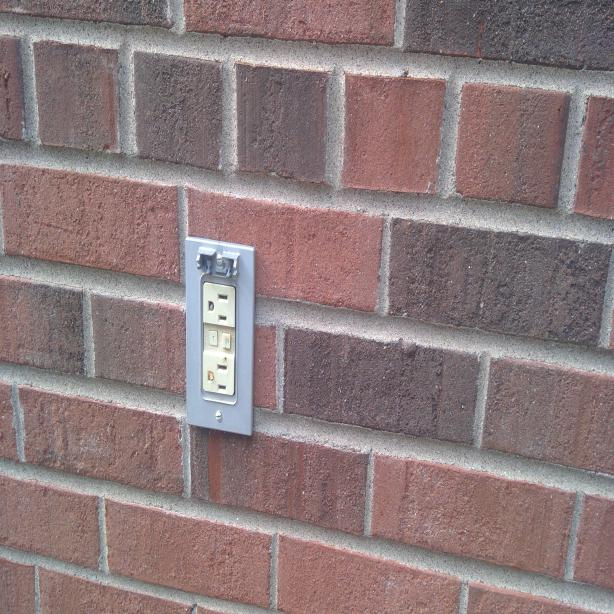typeb: (201, 352, 235, 395), (204, 282, 236, 324)
